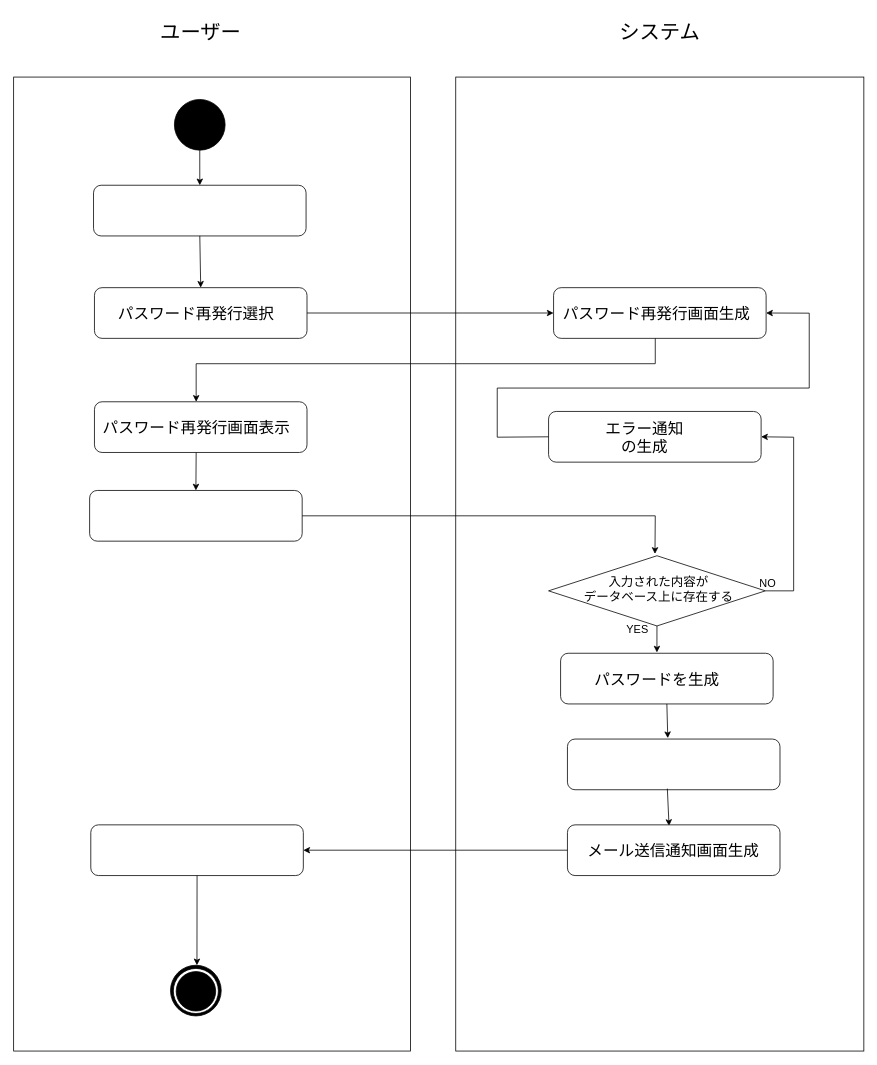
This 877x1065 diagram has some shape labels left out. The shapes that lost their labels are listed below. From the top down, each one's box as (x1, y1, x2, y2) in pixels, then its label:
(93, 184, 306, 236): ログイン画面表示
(89, 490, 302, 541): メールアドレスを入力
(567, 738, 780, 790): パスワードをメールアドレスに送信
(90, 824, 303, 876): メール送信通知画面表示
